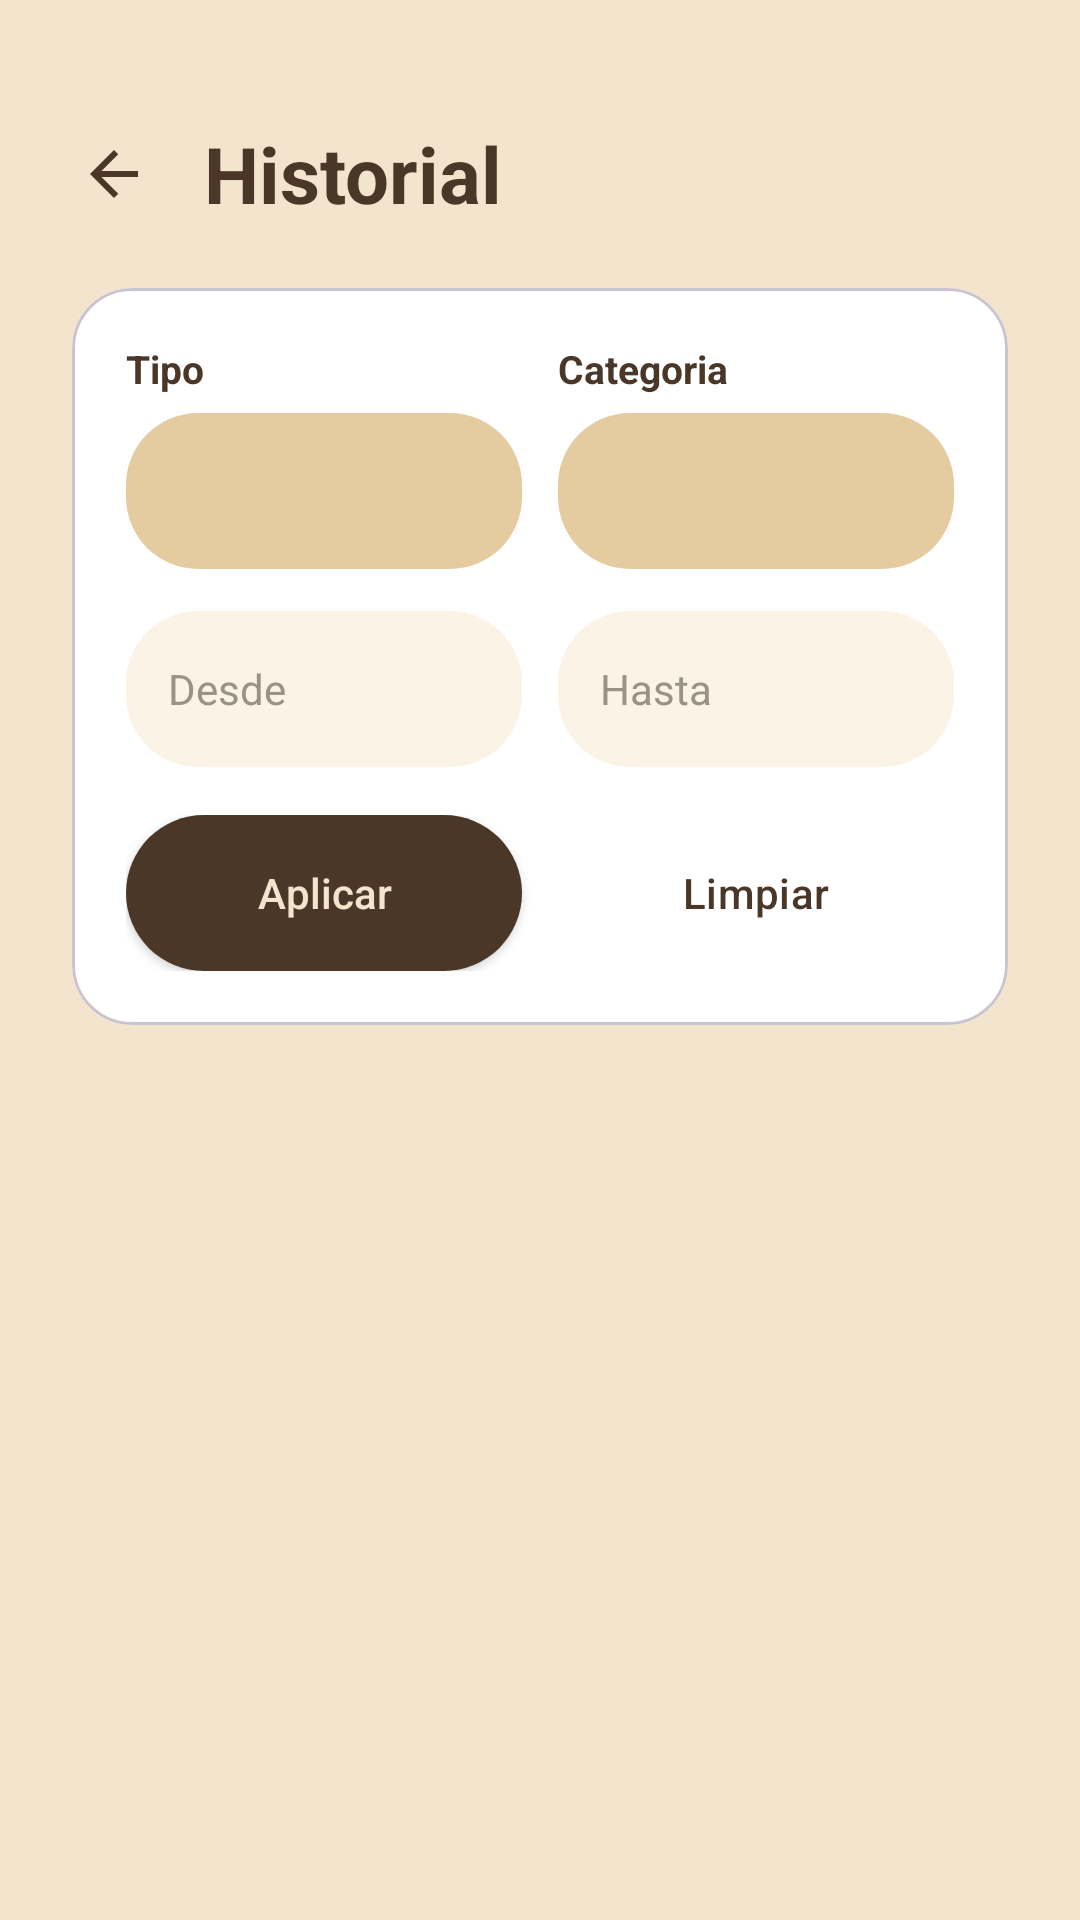

Locate icon controls on the screen. Image size 1080px×1920px, boxes as (x1, y1, x2, y2).
Volver: (90, 150, 138, 198)
